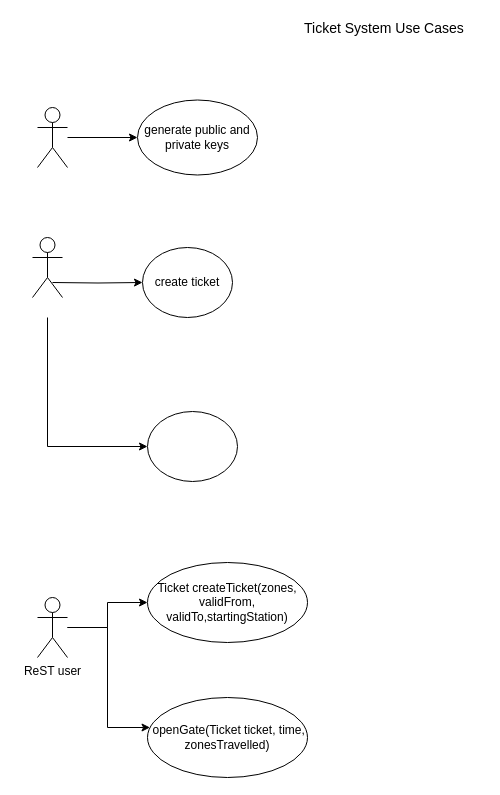
This 500x795 diagram has some shape labels left out. The centre of each missing label's shape, as x and y in pixels:
Customer: the point at 47,267
Developer Build System: the point at 52,137
open gate: the point at 192,446
